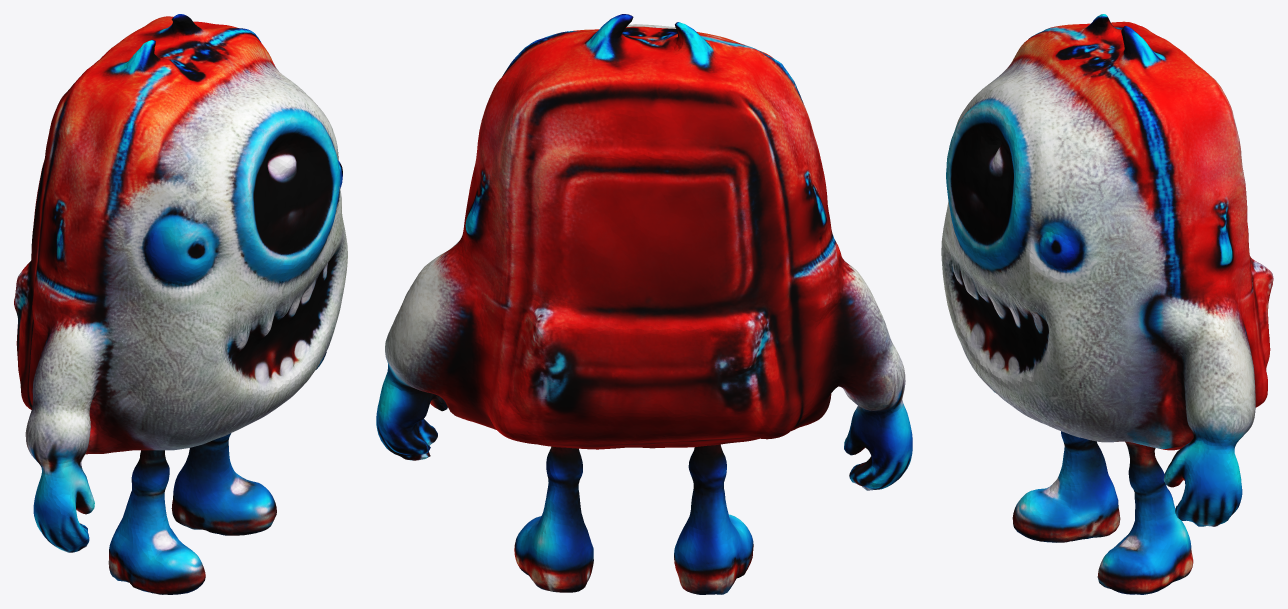
The model's file is backpackmonster.glb.
3 renders of one model, left to right at view 1: azimuth 30°, elevation 25°; view 2: azimuth 150°, elevation 25°; view 3: azimuth 270°, elevation 25°, orthographic. The views are drawn at different scales.
Visible parts, largest first — view 1: mesh.obj; view 2: mesh.obj; view 3: mesh.obj.
Part boxes in pixels (x1,y1,x2,y2): mesh.obj: [14, 14, 347, 594]; mesh.obj: [376, 14, 912, 594]; mesh.obj: [941, 14, 1273, 594].
Size of the model in its own units: 1.04 by 1.37 by 0.7751.
1 material, 1 textured.
